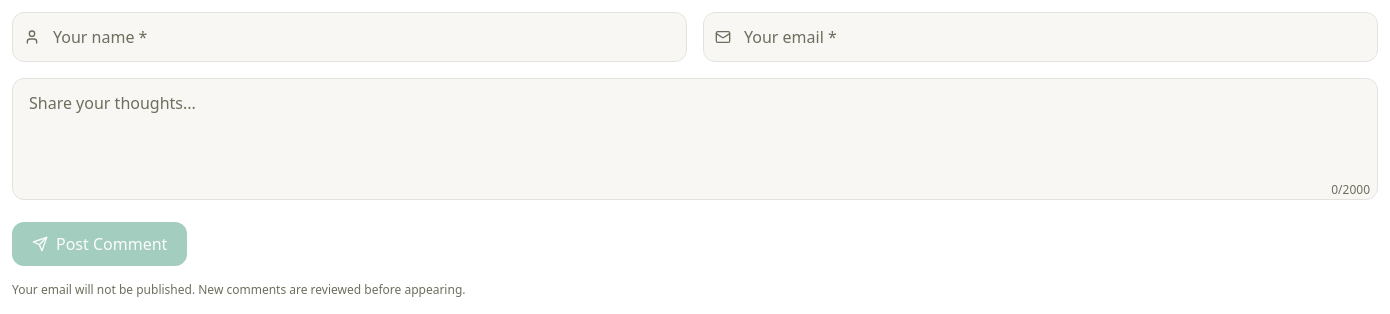
CommentForm › Guest mode (not logged in) › updates character count when typing
This screenshot has width=1390, height=314.
Type "Hello" into the text box with placeholder "Share your thoughts...". click: [695, 139]
box: top-left (12, 78), bottom-right (1378, 200)
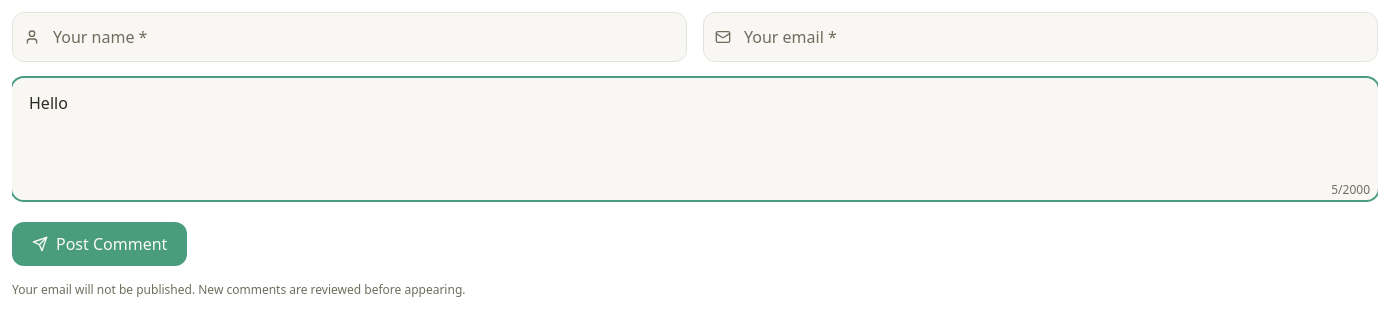
Expected: the text "5/2000" is shown, top-left (1331, 182), bottom-right (1370, 198)
